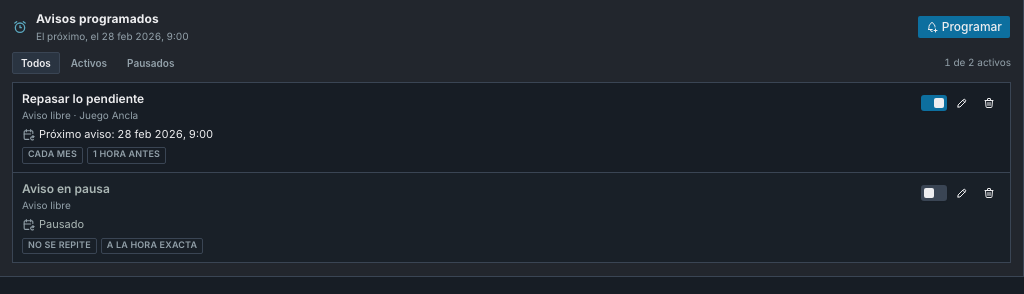
panel de avisos programados › filtra entre activos y pausados sin perder el recuento real
Check: the text "Repasar lo pendiente" is shown, box [22,91,144,106]
Click the button "Pausados" at (151, 63), box [118,52,183,74]
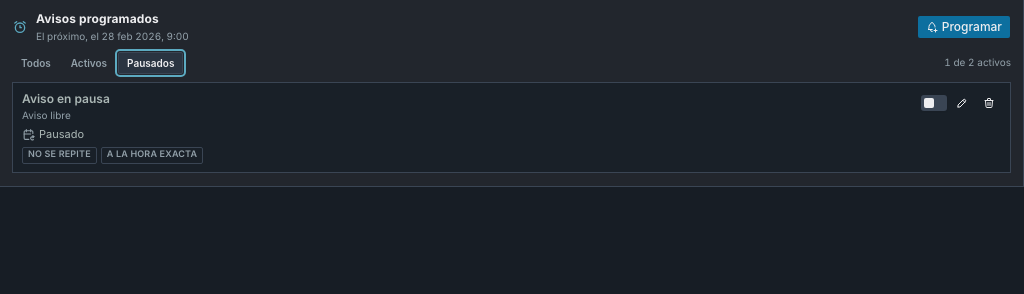
Check: the text "Aviso en pausa" is shown, box [22,91,110,106]
Check: the text "Repasar lo pendiente" is gone
